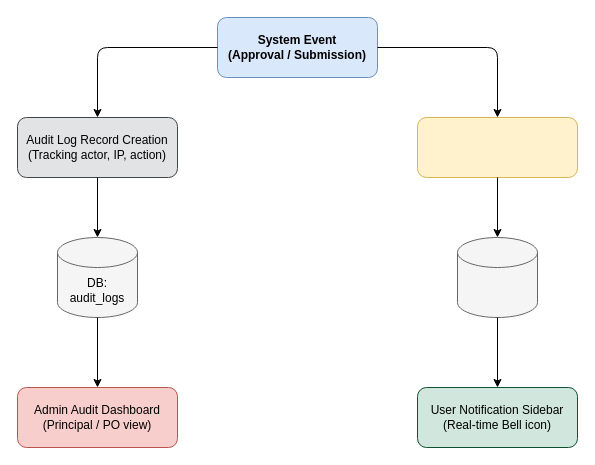
Image size: 595x465. Some labels were removed from this diagram. Each missing label, with the centre of its shape:
DB: notifications: (497,277)
Notification Engine (Target users mapping): (497,147)
